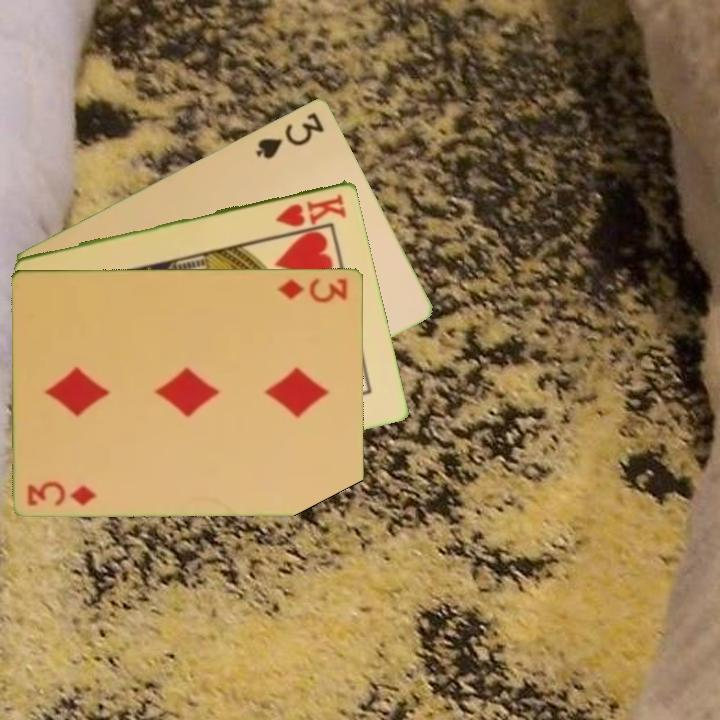3d: (274, 274, 351, 305), (24, 478, 99, 508)
3s: (252, 108, 327, 162)
Kh: (272, 190, 350, 230)
